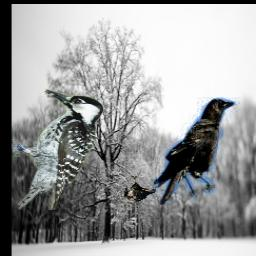Crow: (154, 95, 240, 205), (123, 174, 156, 205)
Woodpecker: (13, 88, 103, 210)
